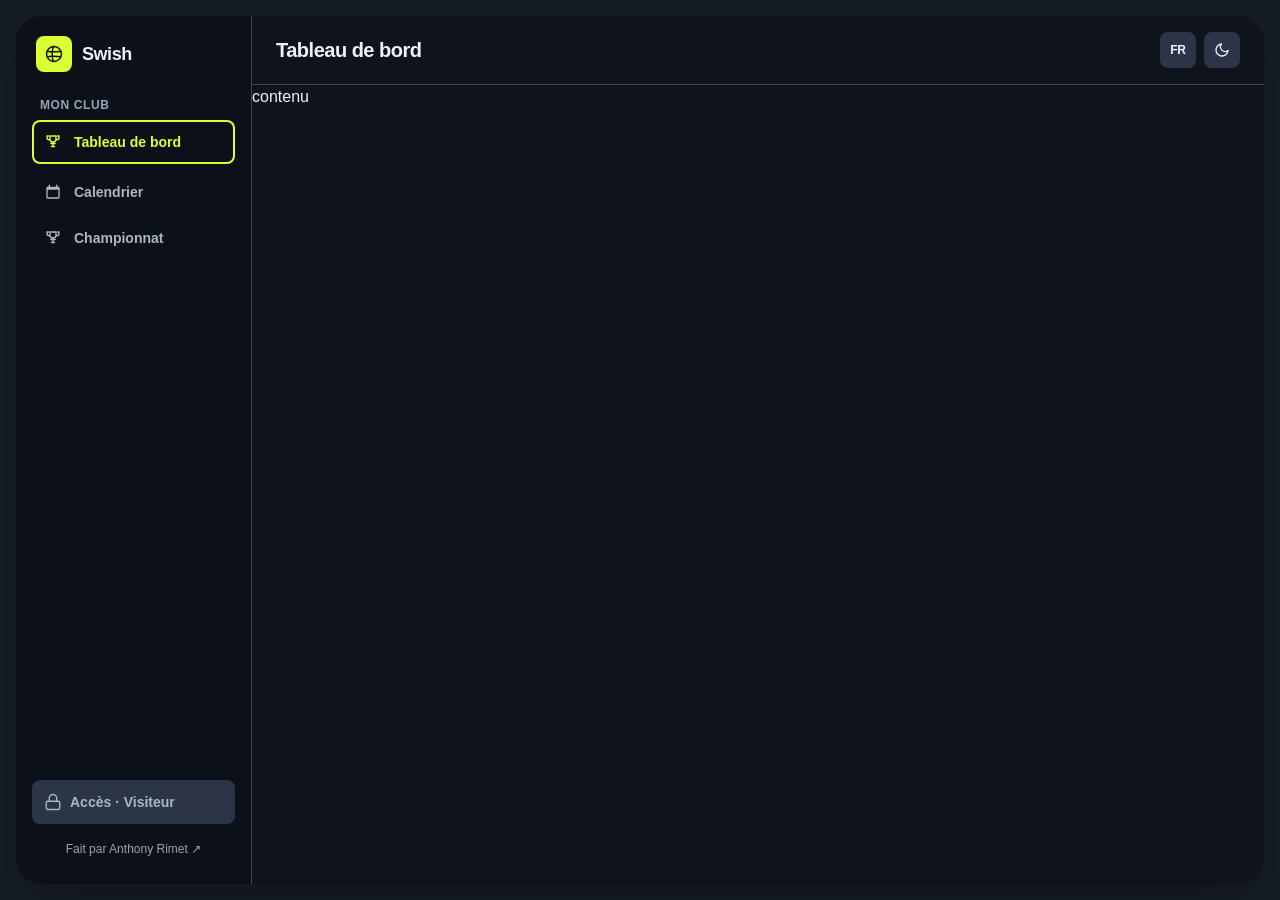
Test: the access entry point › refuses an unknown code without changing the current role
Click the button "Accès · Visiteur" at {"x": 134, "y": 802}, box top-left (32, 780), bottom-right (235, 824)
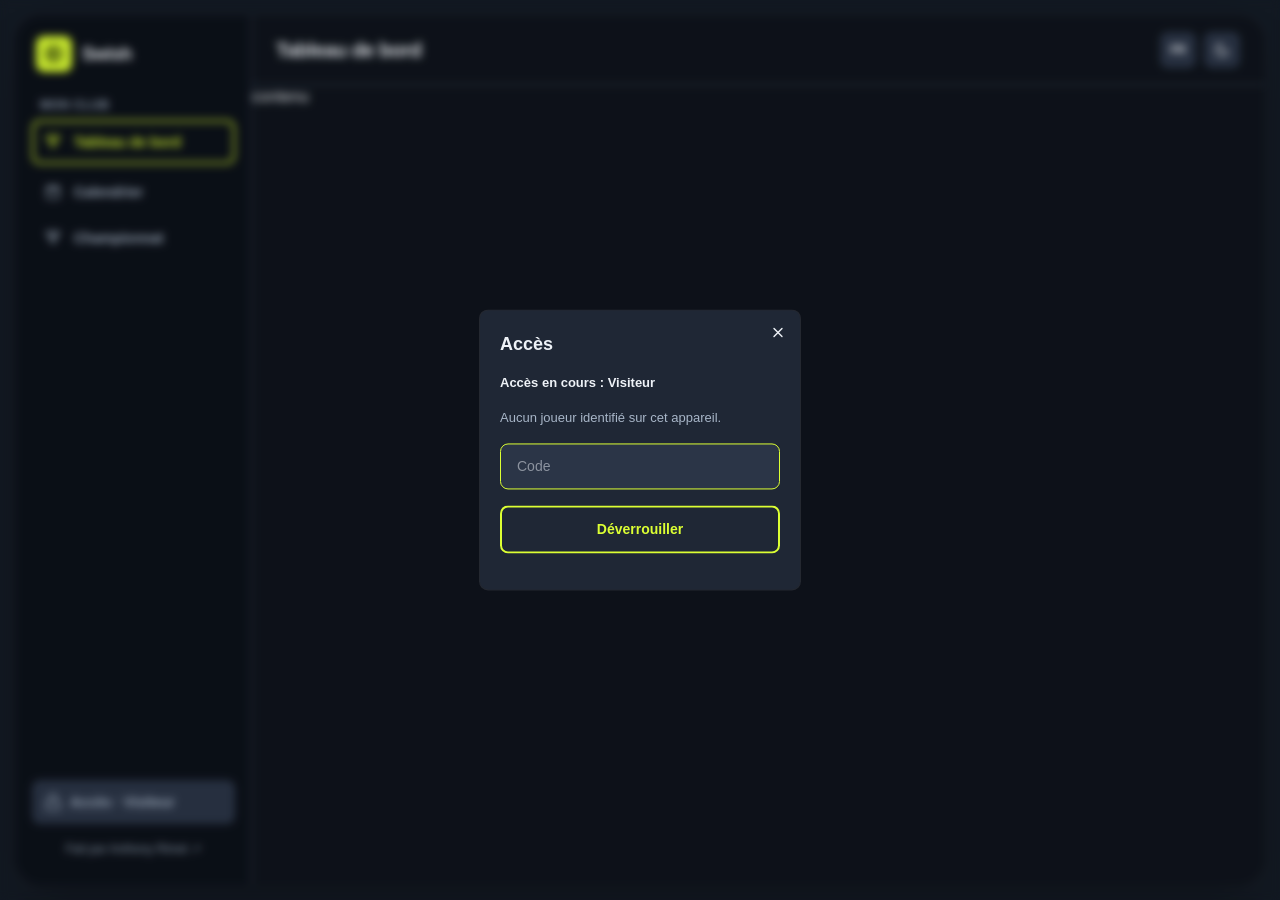
Type "n-importe-quoi" into the password field named "Code d’accès" at {"x": 640, "y": 467}, box top-left (500, 444), bottom-right (780, 490)
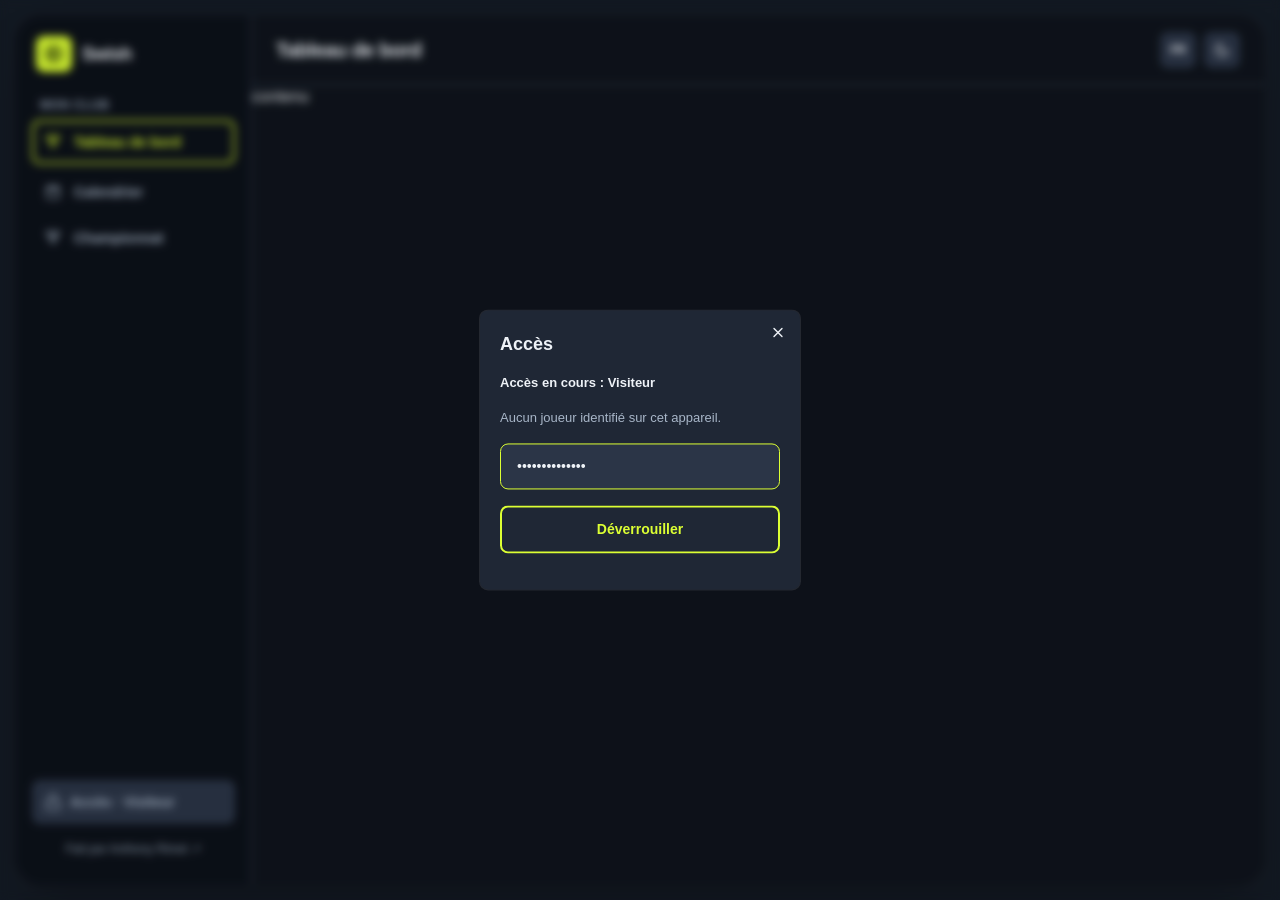
Click the button "Déverrouiller" at {"x": 640, "y": 530}, box top-left (500, 506), bottom-right (780, 554)
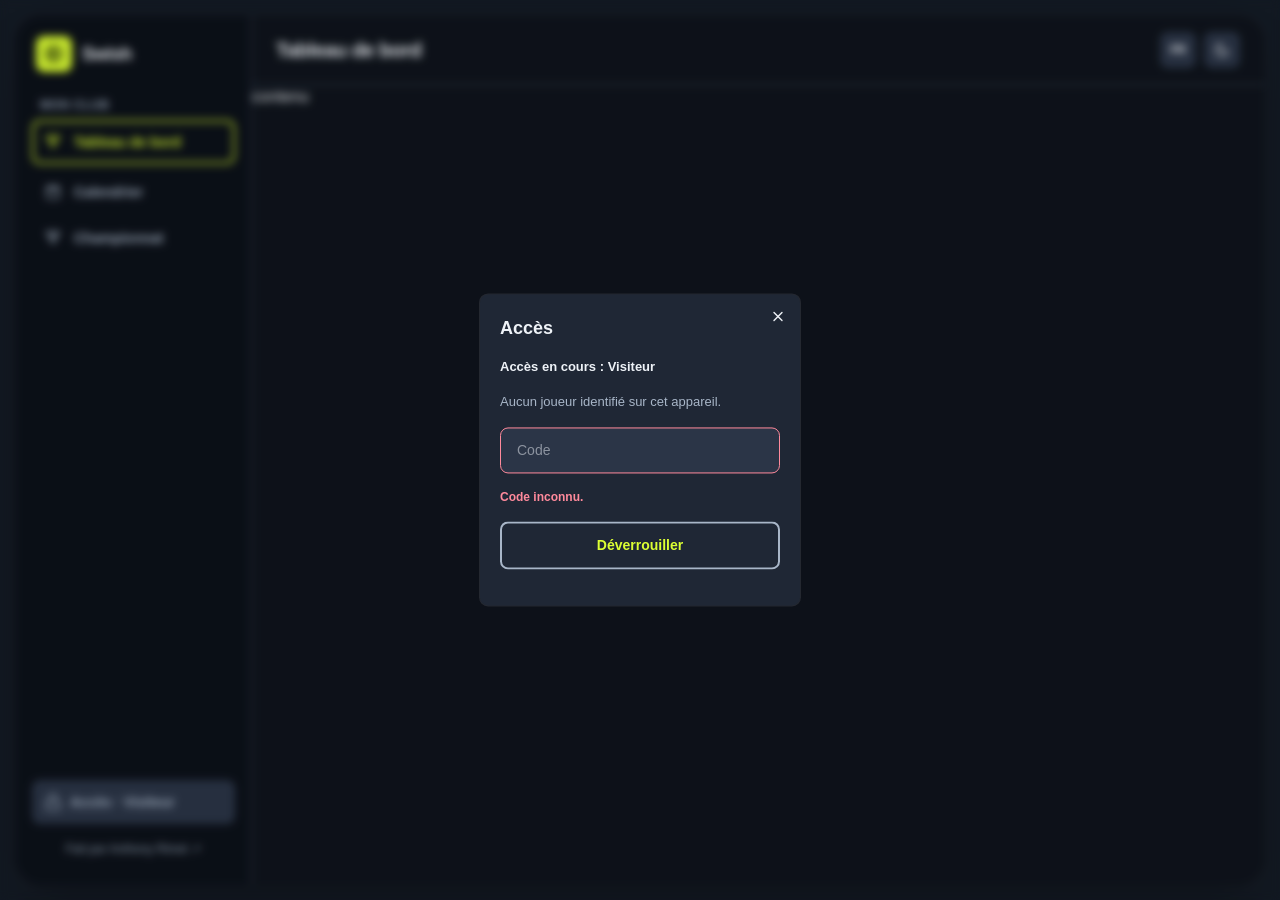
Result: the text "Accès en cours : Visiteur" is shown at top-left (500, 359), bottom-right (655, 374)
Result: the text "Code inconnu." is shown at top-left (500, 491), bottom-right (583, 505)
